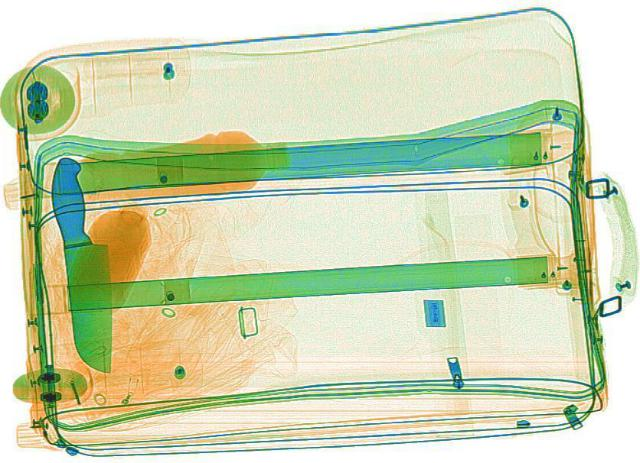Knife: (42, 154, 120, 373)
